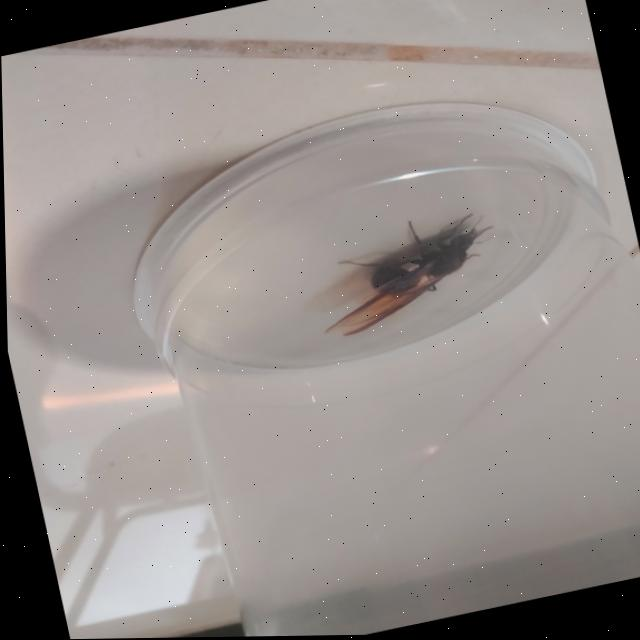Alive-Female-Alate: (303, 205, 511, 342)
